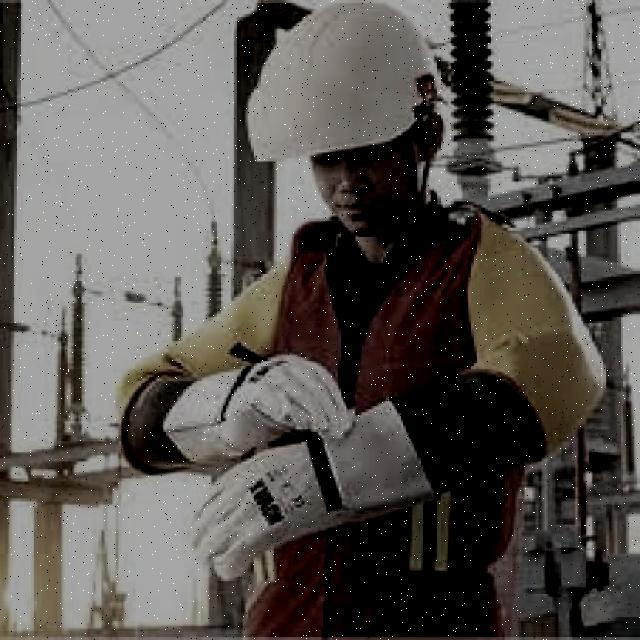Gloves: (183, 448, 409, 580), (184, 353, 353, 444)
Helmet: (242, 0, 436, 143)
